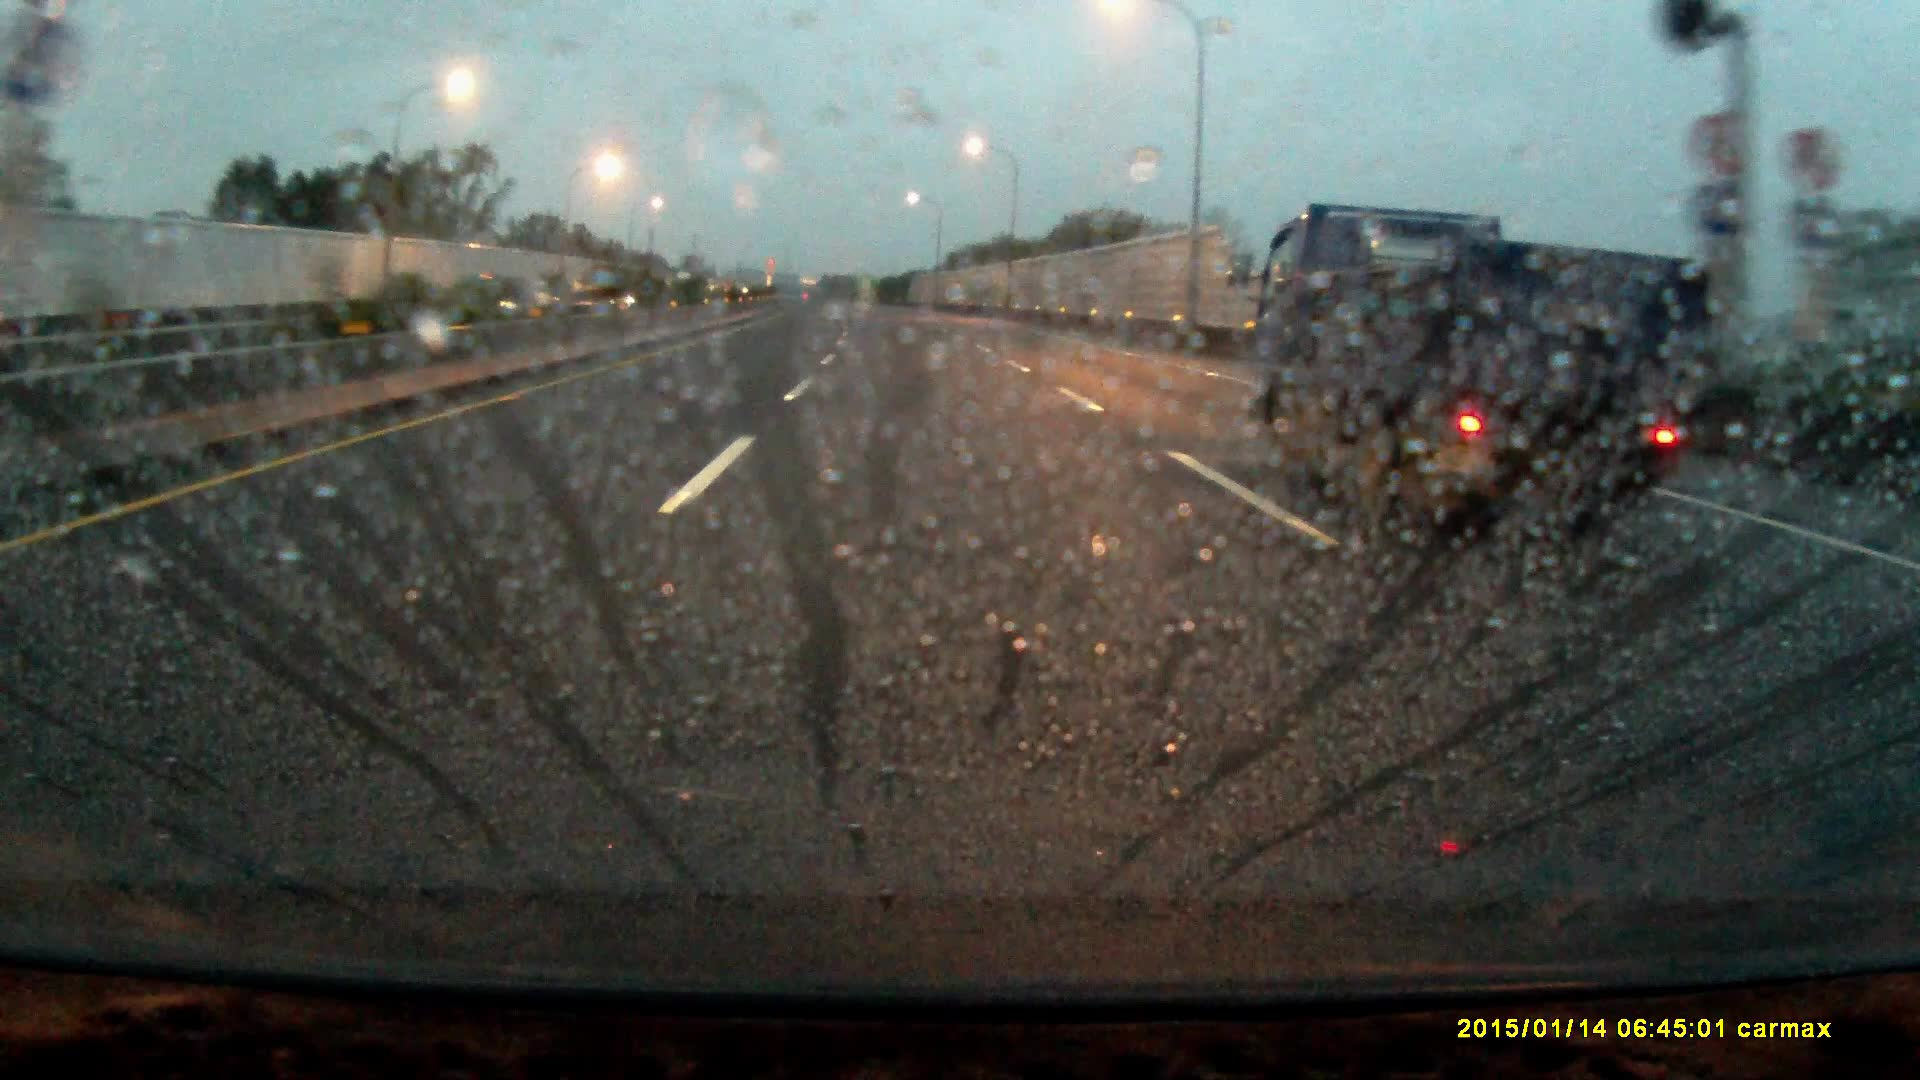vehicle: (1233, 200, 1731, 545)
